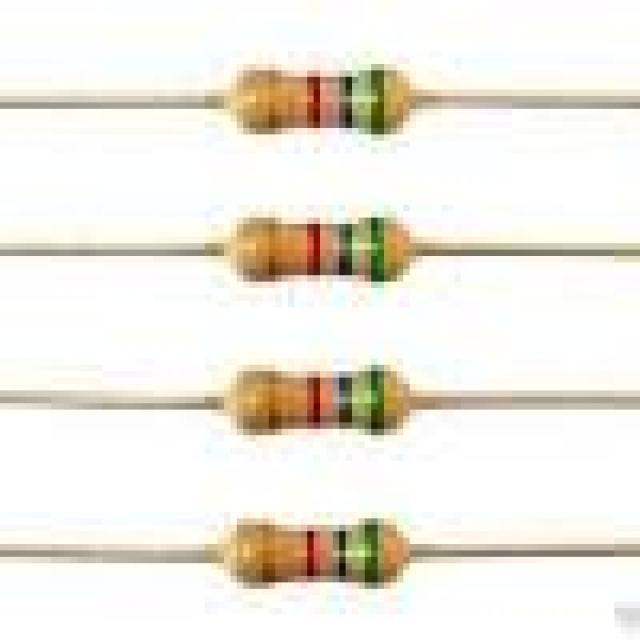capacitor: (224, 364, 416, 442), (224, 64, 422, 134), (224, 518, 416, 589), (224, 218, 416, 288)
